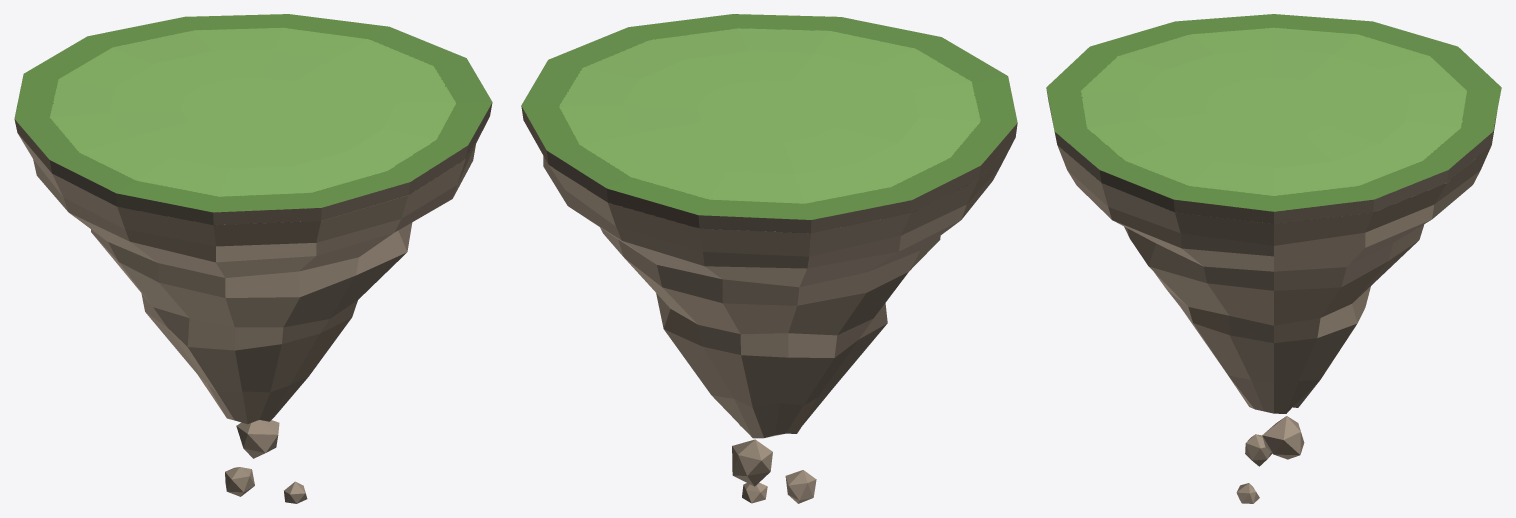
The model's file is AST03c_Island03_Projects.glb.
3 views of the same model, side by side, from view 1: azimuth 30°, elevation 25°; view 2: azimuth 150°, elevation 25°; view 3: azimuth 270°, elevation 25° (orthographic). The views are drawn at different scales.
Visible parts, largest first — view 1: AST03c_Island03_Projects; view 2: AST03c_Island03_Projects; view 3: AST03c_Island03_Projects.
Boxes of the visible parts, bbox=[...] form: AST03c_Island03_Projects: bbox=[14, 14, 492, 503]; AST03c_Island03_Projects: bbox=[521, 14, 1017, 503]; AST03c_Island03_Projects: bbox=[1046, 14, 1501, 503].
Size of the model in its own units: 19 by 17.15 by 18.49.
Materials: 1 (1 with a texture image).
